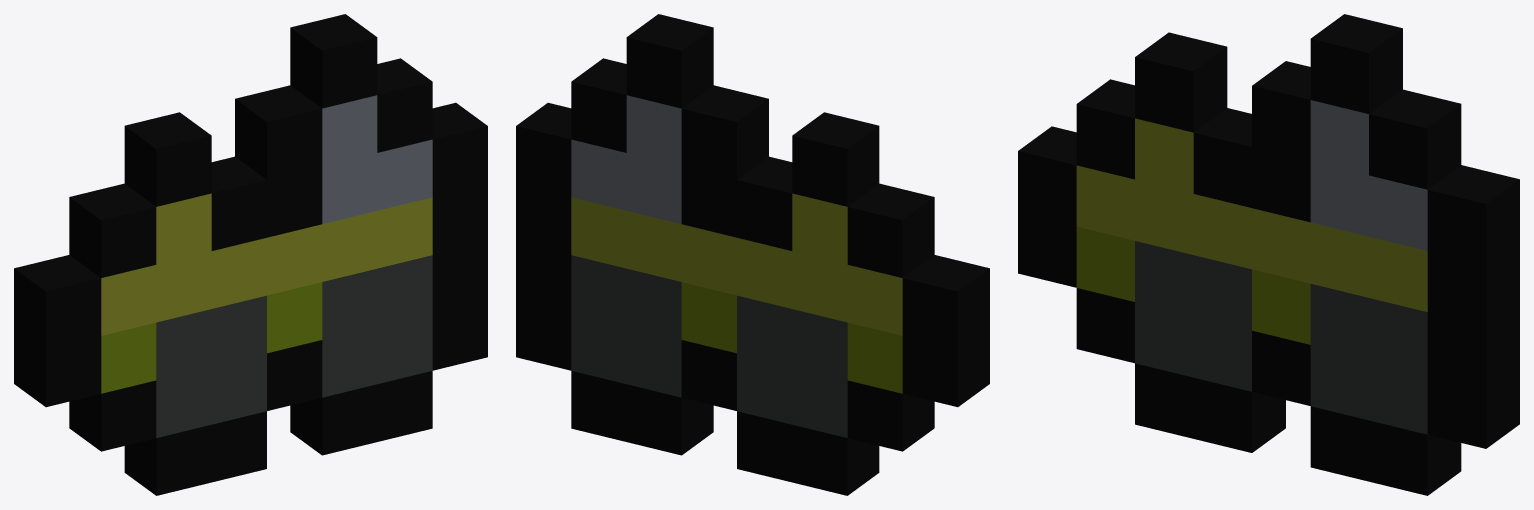
File: Off Roader Item.glb
3 views of the same model, side by side, from view 1: azimuth 30°, elevation 25°; view 2: azimuth 150°, elevation 25°; view 3: azimuth 330°, elevation 25° (orthographic). The views are drawn at different scales.
Visible parts, largest first — view 1: generated(Clone); view 2: generated(Clone); view 3: generated(Clone).
Part boxes in pixels (x1,y1,x2,y2): generated(Clone): (14,14,487,495); generated(Clone): (516,14,989,495); generated(Clone): (1018,14,1519,495).
Bounding box in the file's own units: 8 × 7 × 1.
Materials: 1 (1 with a texture image).
